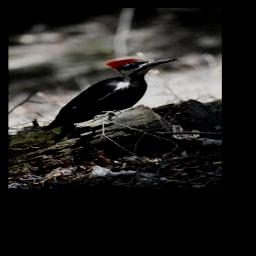Woodpecker: (42, 57, 177, 140)
